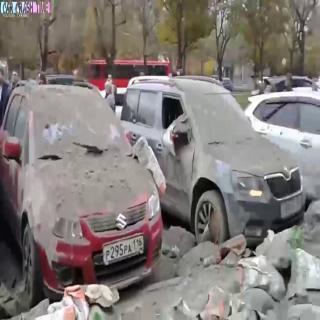Vehicle-Crash_Detected: (37, 99, 302, 303)
